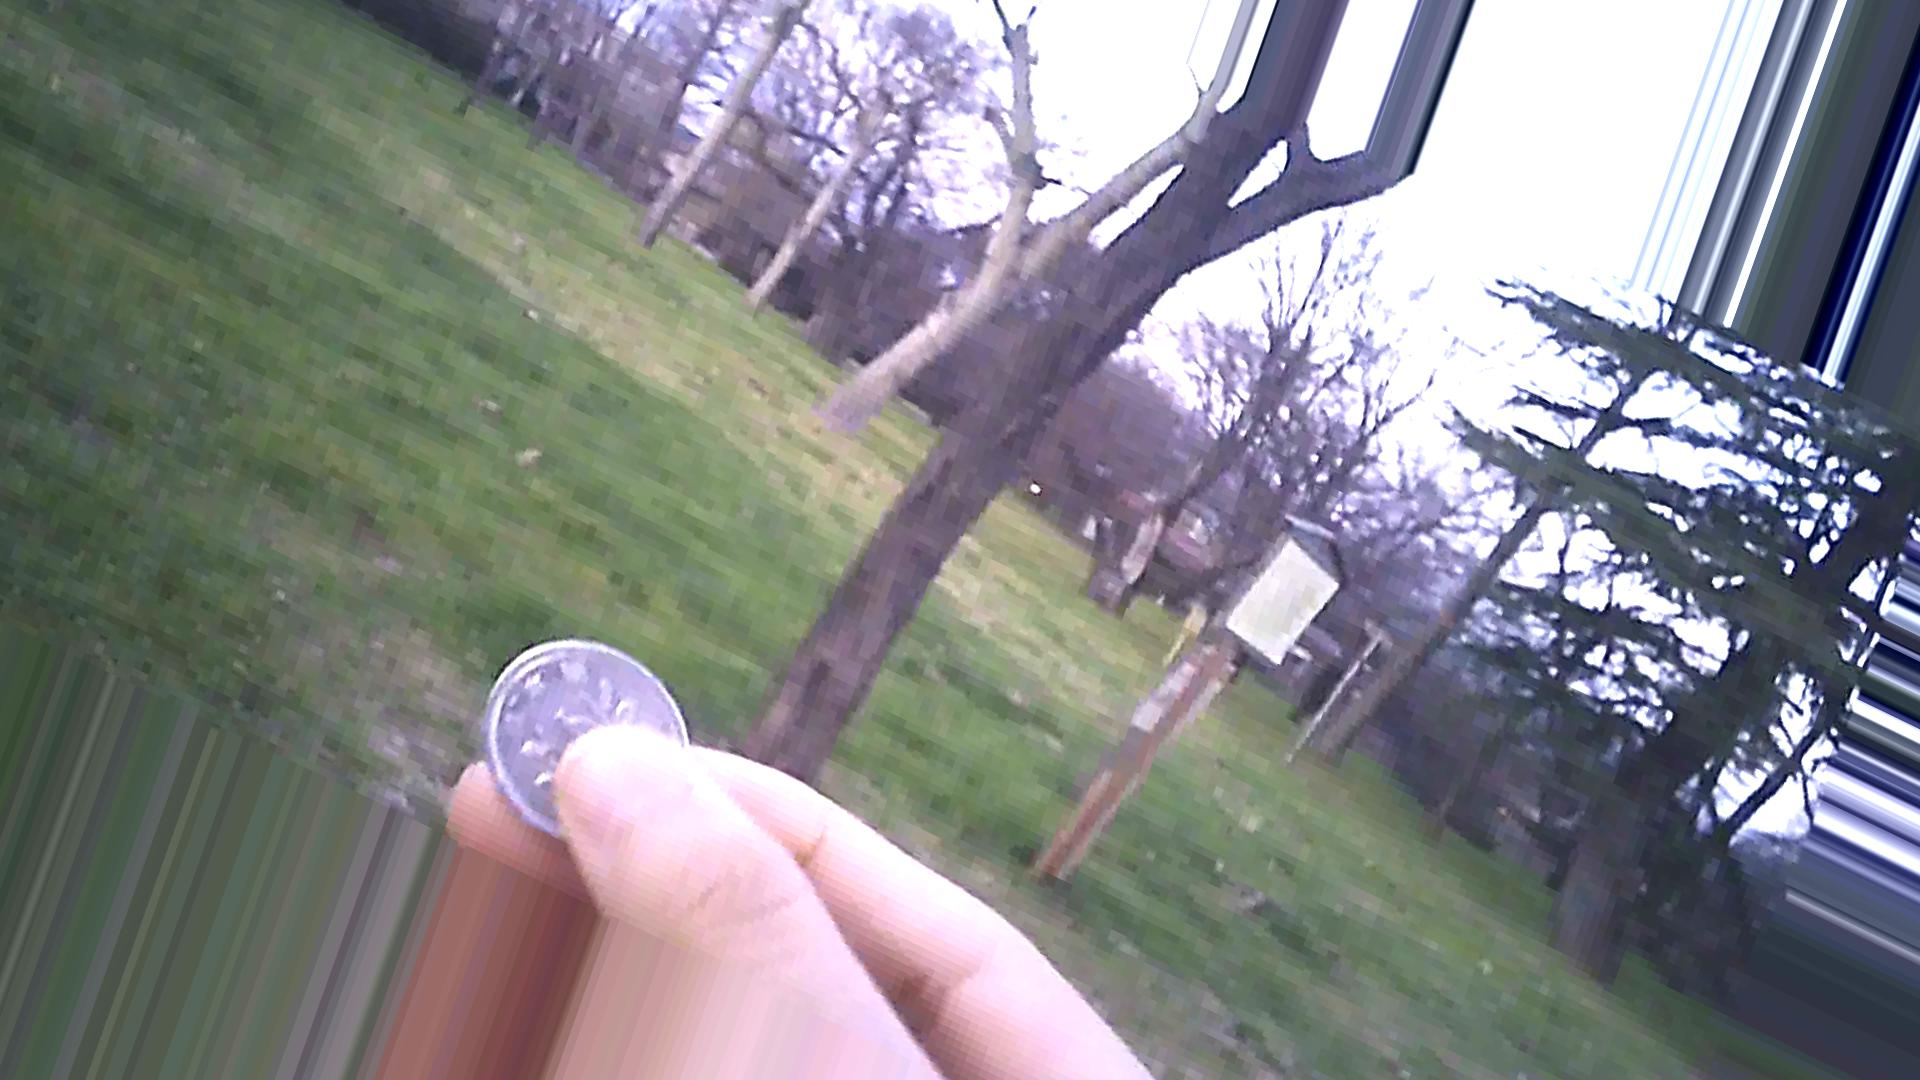1 Yen: (467, 624, 705, 843)
